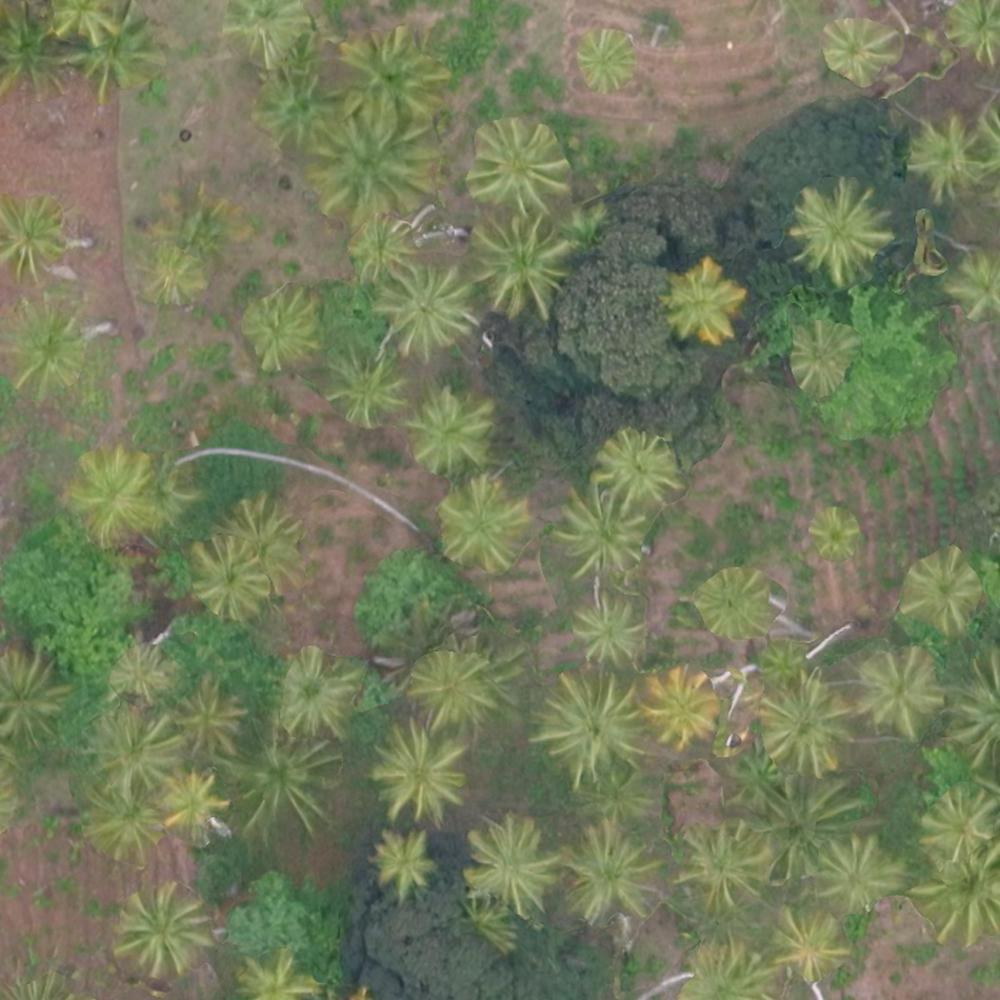Palm: (310, 108, 433, 217), (540, 675, 643, 780), (229, 727, 330, 834), (338, 31, 449, 121), (565, 822, 658, 926), (466, 215, 563, 313), (910, 844, 1000, 948), (464, 821, 558, 919), (374, 264, 472, 357), (791, 186, 891, 277), (371, 727, 465, 821), (471, 118, 566, 211), (117, 883, 213, 974), (71, 450, 161, 543), (90, 707, 187, 793), (764, 676, 852, 767), (679, 825, 767, 915), (858, 647, 943, 739), (557, 489, 645, 577), (438, 479, 521, 572), (274, 649, 359, 735), (8, 300, 87, 392), (79, 782, 168, 863), (405, 390, 490, 472), (243, 285, 326, 368), (226, 493, 301, 584), (187, 535, 269, 618), (818, 836, 908, 910), (326, 349, 409, 428), (410, 654, 494, 731), (251, 65, 334, 142), (596, 431, 680, 507), (769, 906, 852, 982), (920, 781, 998, 861), (1, 193, 72, 280), (664, 260, 738, 343), (647, 668, 724, 746), (907, 554, 977, 638), (172, 680, 244, 758), (154, 769, 228, 841), (570, 594, 642, 665), (821, 19, 895, 88), (909, 122, 977, 195), (697, 571, 771, 638), (368, 826, 436, 898), (129, 245, 202, 309), (790, 325, 858, 393), (111, 643, 176, 704), (348, 218, 417, 274), (577, 26, 634, 88), (808, 508, 863, 565)
